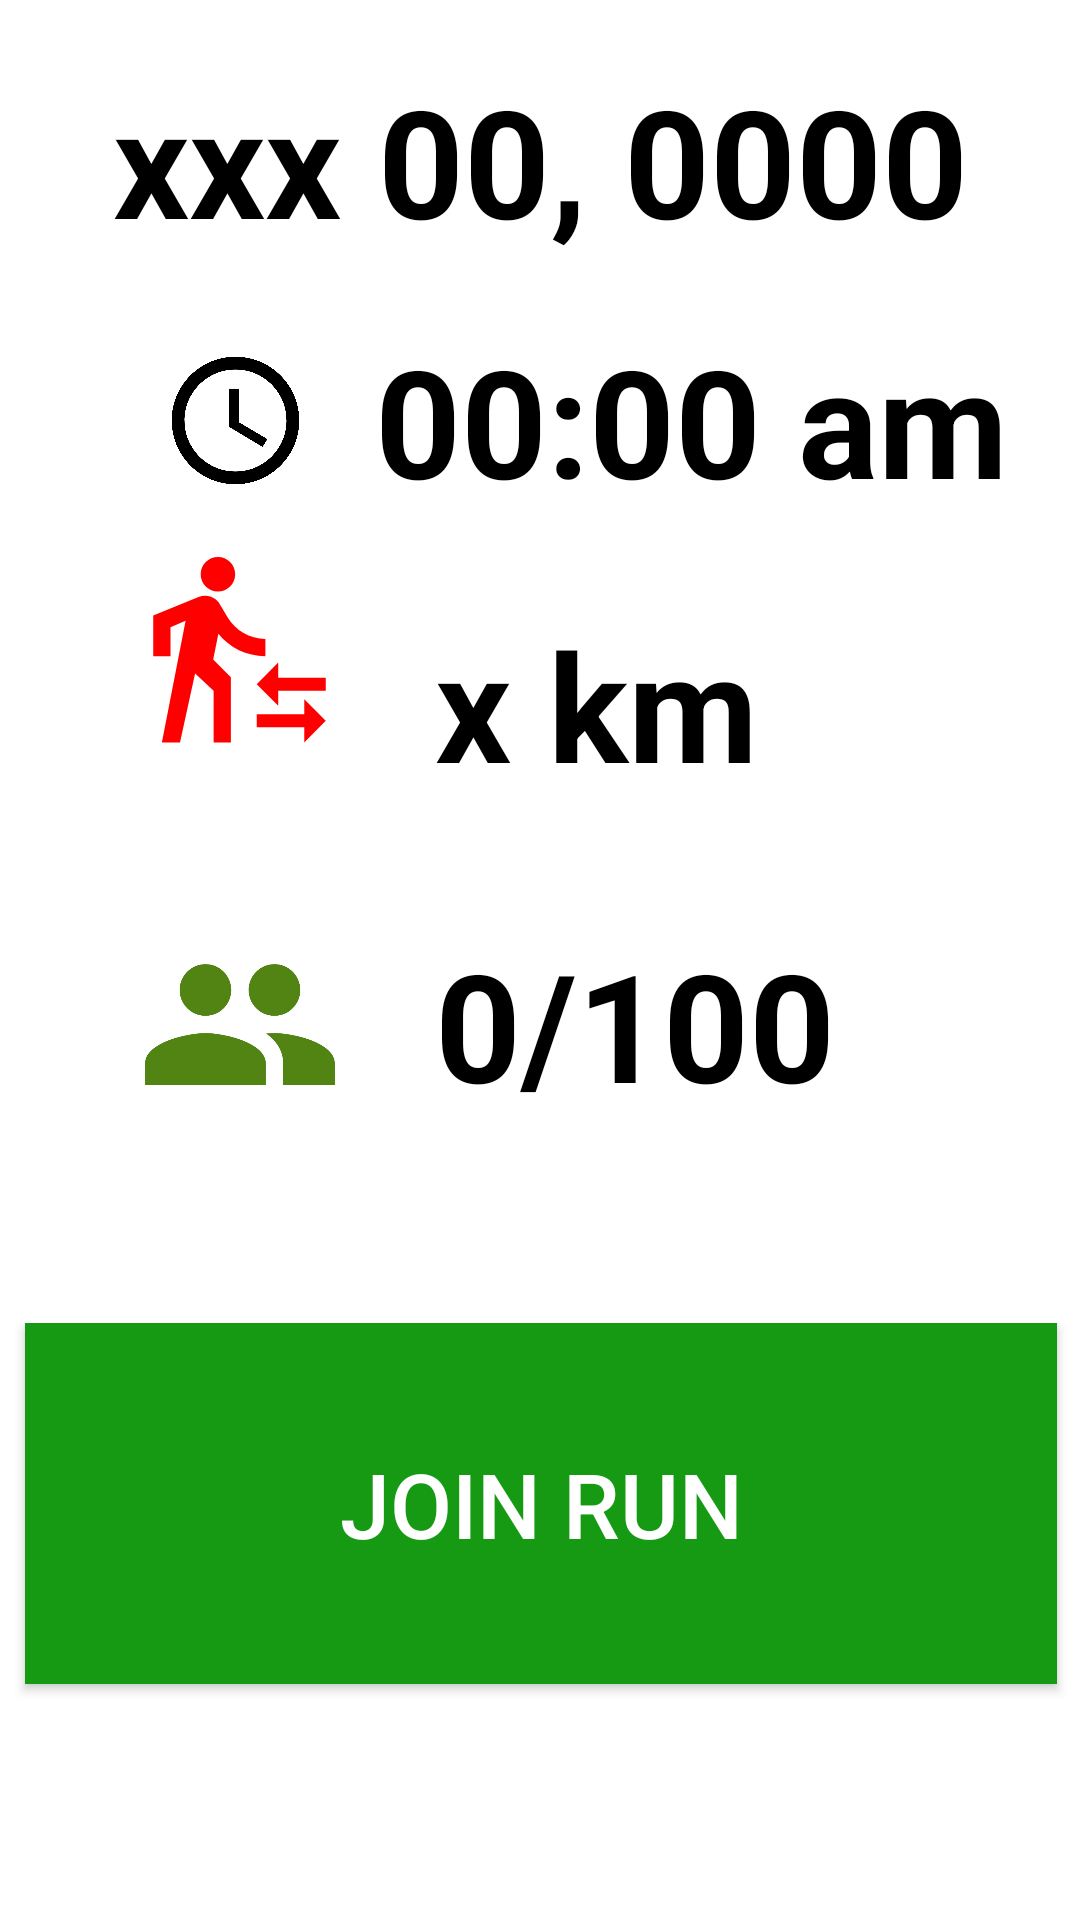

Icon bounding boxes for this 1080×1920 phone screenshot, format (x1, y1, x2, y2):
access time: (172, 357, 299, 484)
people: (145, 964, 335, 1085)
transfer within station: (153, 557, 326, 743)
